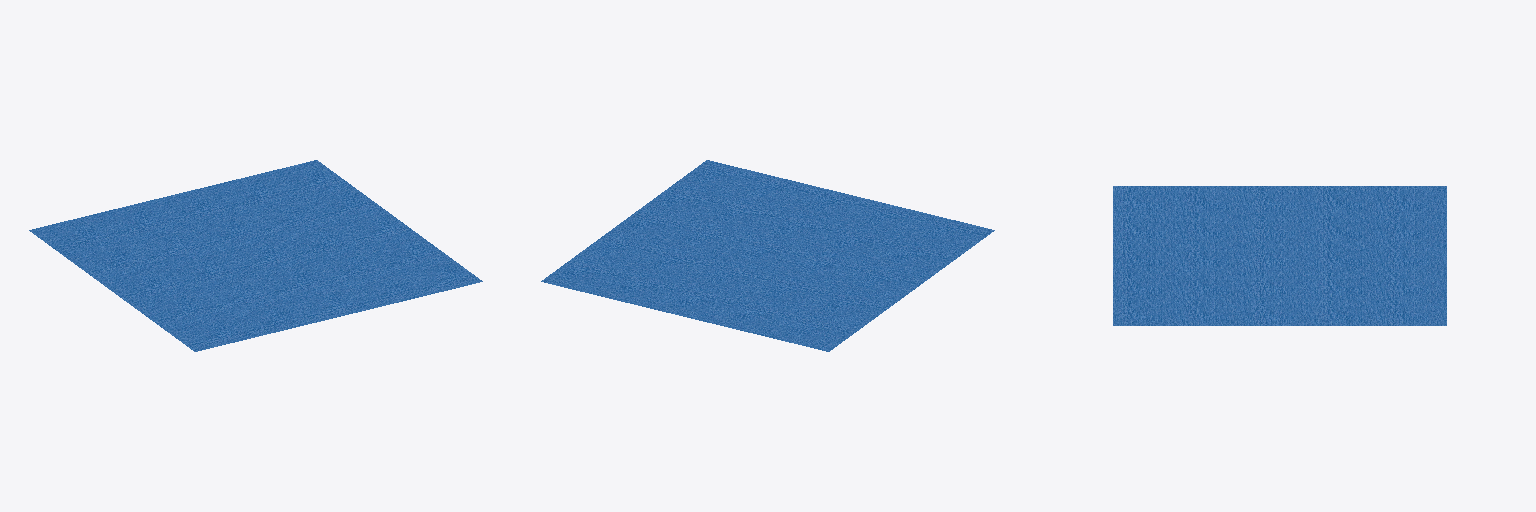
3 views of the same model, side by side, from view 1: azimuth 30°, elevation 25°; view 2: azimuth 150°, elevation 25°; view 3: azimuth 270°, elevation 25° (orthographic).
Parts seen in each view (by area): view 1: Plane; view 2: Plane; view 3: Plane.
Boxes of the visible parts, x1,y1,x2,y2 form: Plane: [29, 160, 482, 351]; Plane: [541, 160, 994, 351]; Plane: [1113, 186, 1446, 325].
Size of the model in its own units: 2 by 0 by 2.
1 materials, 1 textured.